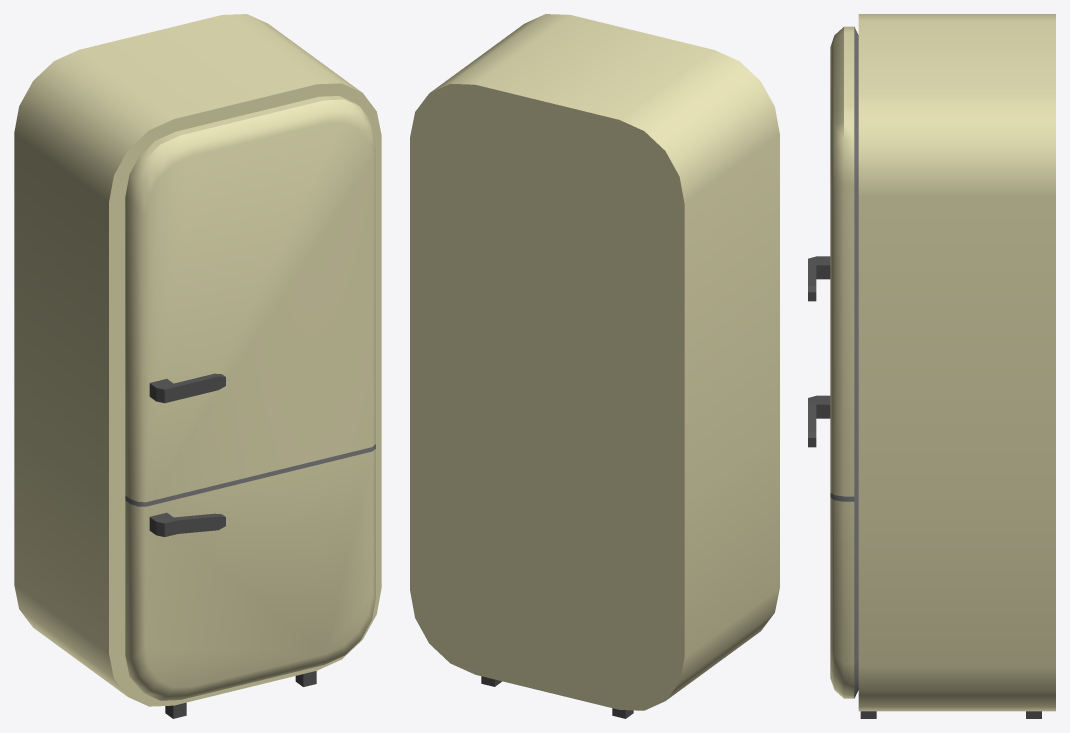
The model's file is fridge 1.fbx.
3 views of the same model, side by side, from view 1: azimuth 30°, elevation 25°; view 2: azimuth 150°, elevation 25°; view 3: azimuth 270°, elevation 25° (orthographic). The views are drawn at different scales.
Parts seen in each view (by area): view 1: Fridge; view 2: Fridge; view 3: Fridge.
Boxes of the visible parts, x1,y1,x2,y2 form: Fridge: (14, 14, 381, 718); Fridge: (410, 14, 779, 718); Fridge: (808, 14, 1055, 718).
Bounding box in the file's own units: 166 × 126 × 350.
